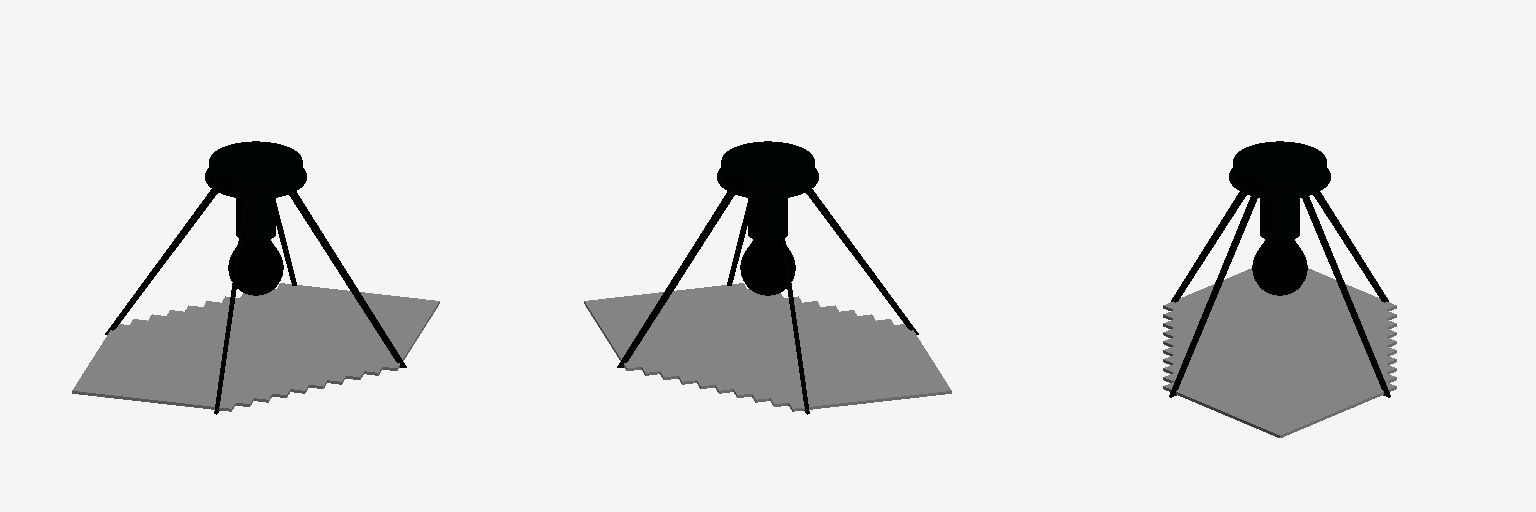
Rendered from Areti_Black_hole_mat(2).obj.
3 views of the same model, side by side, from view 1: azimuth 30°, elevation 25°; view 2: azimuth 150°, elevation 25°; view 3: azimuth 270°, elevation 25° (orthographic).
Visible parts, largest first — view 1: Areti_Black_hole_mat2; view 2: Areti_Black_hole_mat2; view 3: Areti_Black_hole_mat2.
Part boxes in pixels (x1,y1,x2,y2): Areti_Black_hole_mat2: (72,141,439,414); Areti_Black_hole_mat2: (584,141,951,414); Areti_Black_hole_mat2: (1163,141,1396,437).
Size of the model in its own units: 49.96 by 24.65 by 27.46.